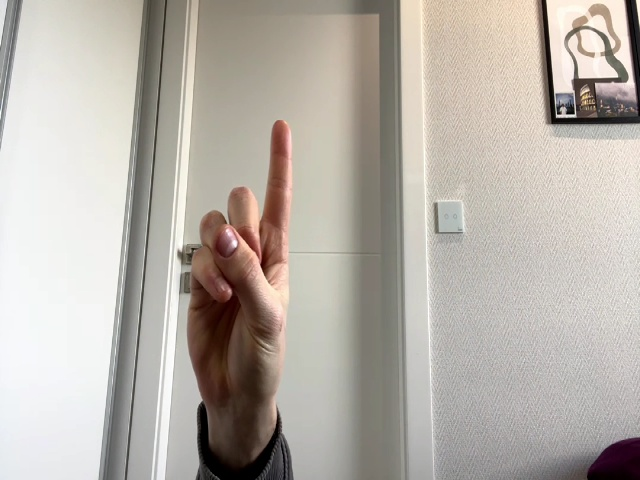Z: (187, 121, 291, 410)
